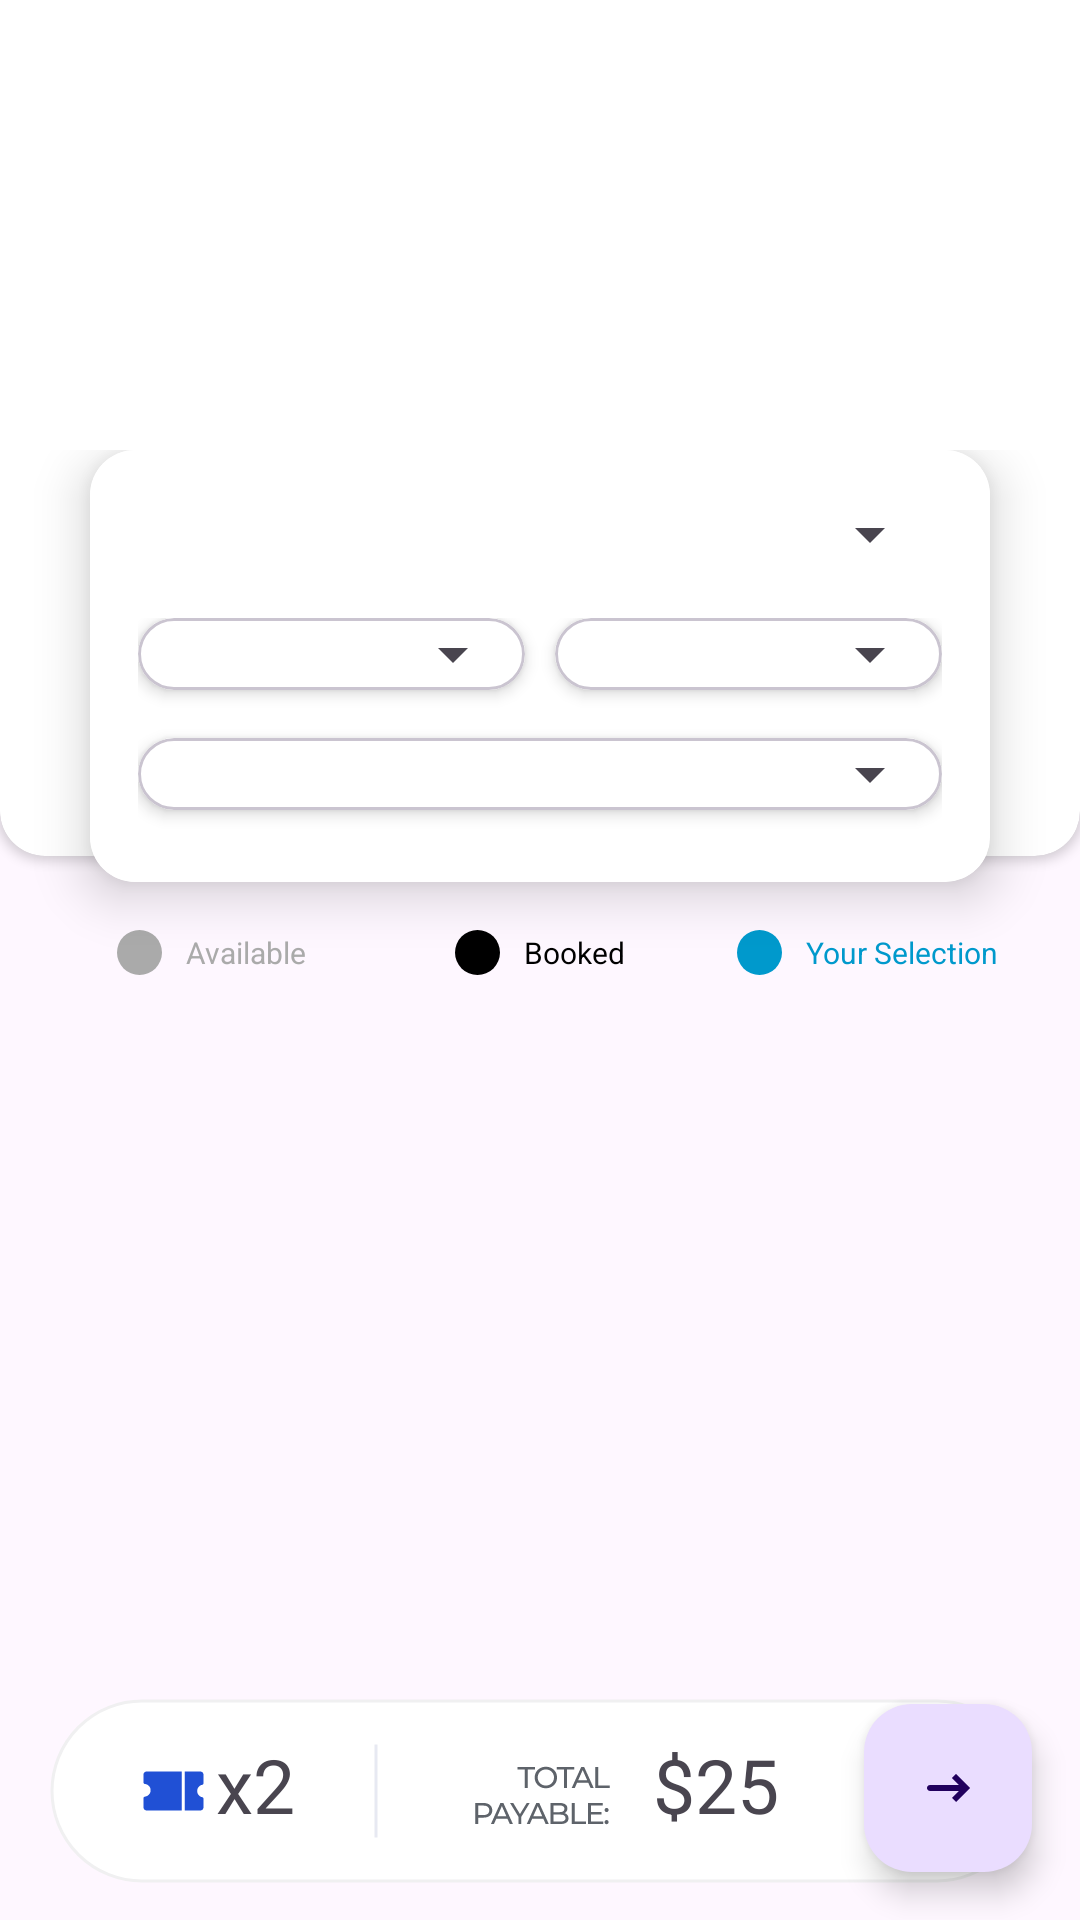

Icon click points for this 1080 × 1920 phone screenshot, format (x,y):
submit: (948,1788)
